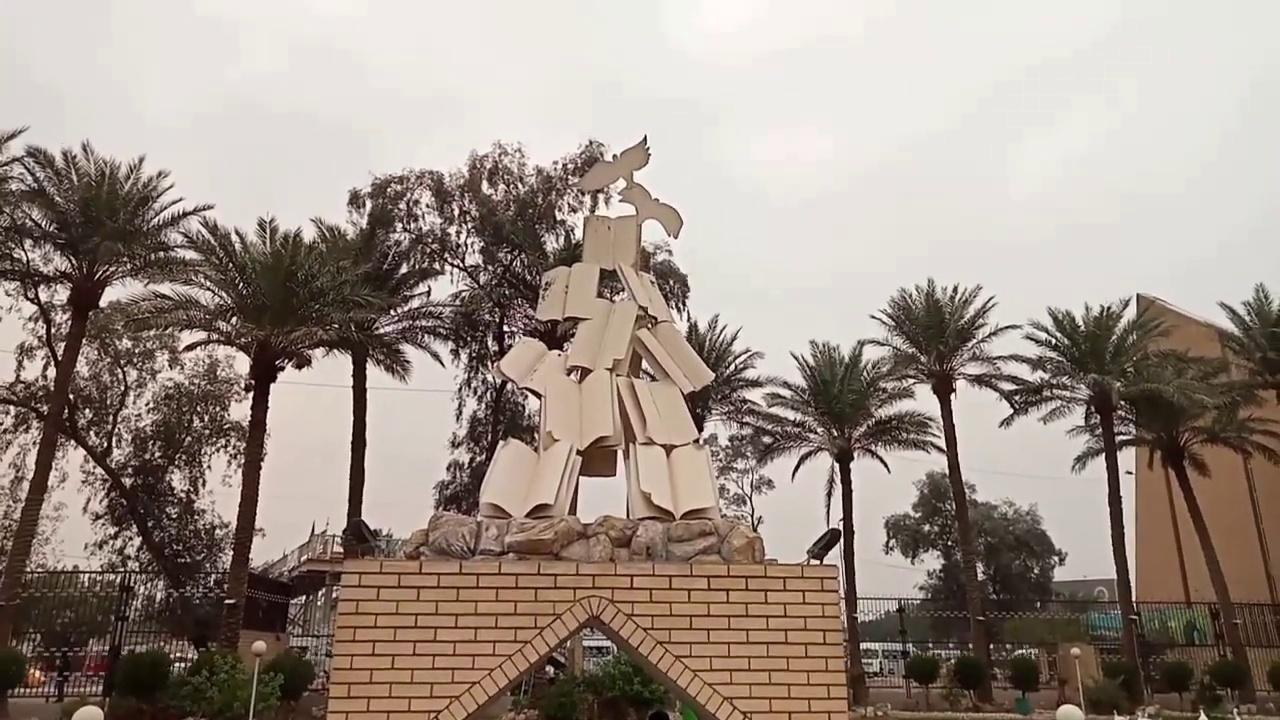person: (52, 650, 71, 702)
tree: (105, 211, 381, 659), (0, 127, 216, 653), (346, 137, 612, 518), (738, 338, 942, 707), (999, 295, 1176, 712), (862, 276, 1027, 706), (1110, 346, 1258, 707), (296, 209, 444, 548), (882, 467, 1067, 700), (1208, 279, 1279, 618), (678, 311, 773, 531), (523, 649, 673, 718), (262, 646, 315, 705), (1100, 656, 1145, 712), (1204, 655, 1249, 706), (902, 651, 941, 708), (1006, 653, 1040, 714), (1081, 673, 1129, 716), (951, 653, 988, 707), (1158, 658, 1194, 710), (1265, 658, 1279, 692)
